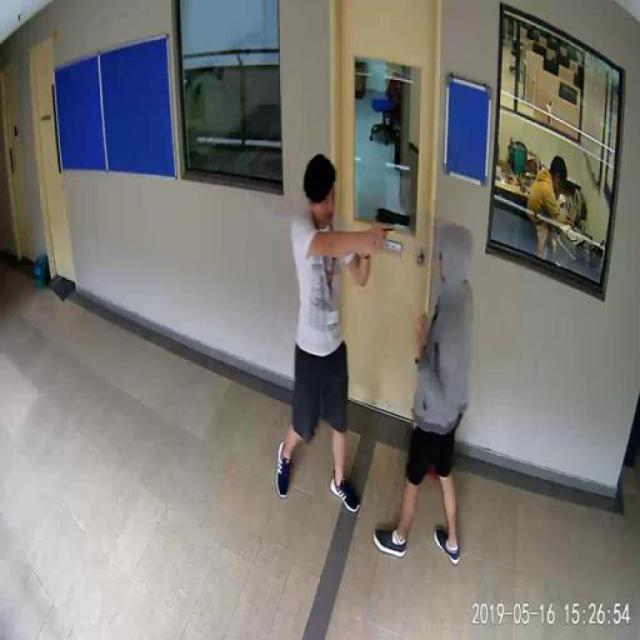pistol: (375, 205, 409, 249)
